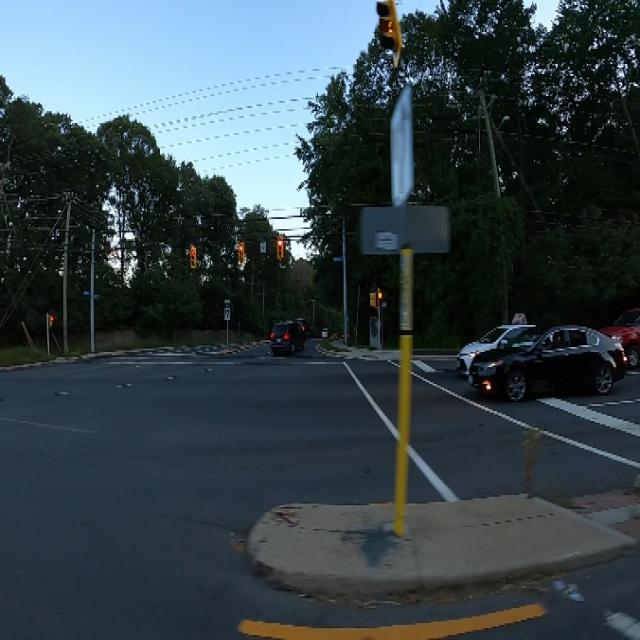car: (459, 315, 632, 396), (267, 310, 304, 365)
